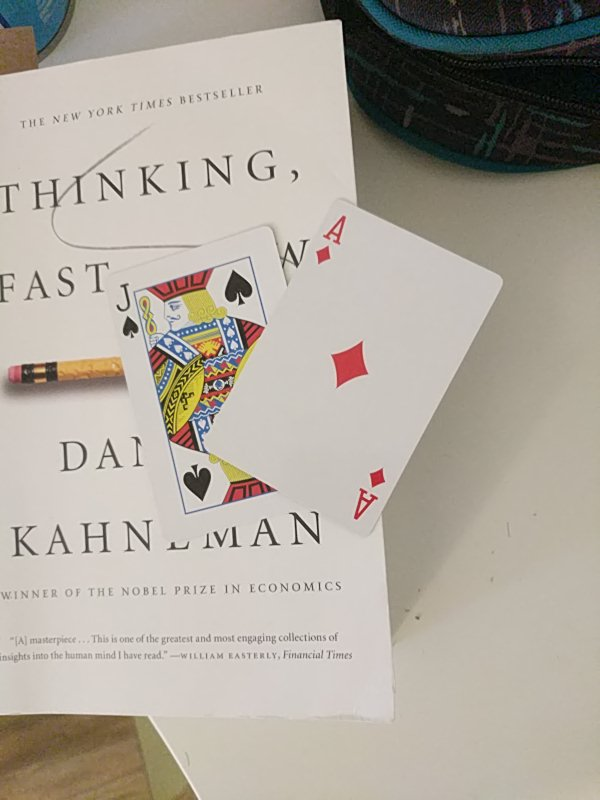Diamonds: (198, 195, 505, 537)
Spades: (108, 223, 288, 540)
